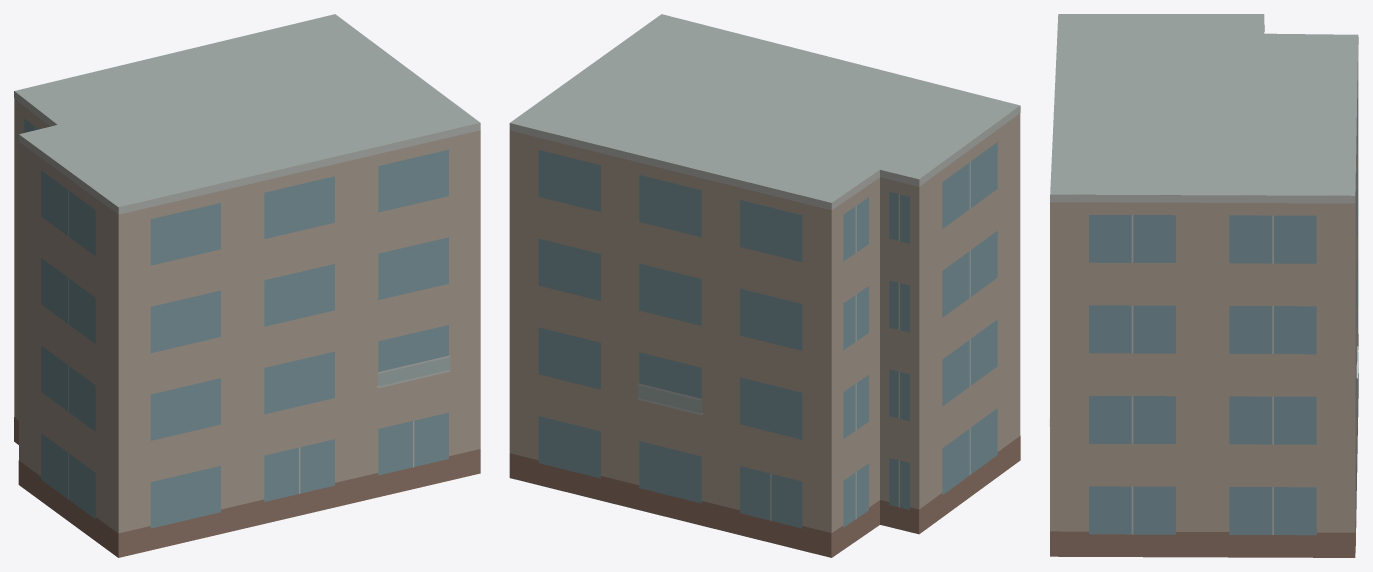
Rendered from survey-upis-32651889.glb.
3 renders of one model, left to right at view 1: azimuth 30°, elevation 25°; view 2: azimuth 150°, elevation 25°; view 3: azimuth 270°, elevation 25°, orthographic. The views are drawn at different scales.
Parts seen in each view (by area): view 1: survey-upis-32651889.tmp; view 2: survey-upis-32651889.tmp; view 3: survey-upis-32651889.tmp.
Part boxes in pixels (x1=…): survey-upis-32651889.tmp: x1=14, y1=14, x2=480, y2=557; survey-upis-32651889.tmp: x1=509, y1=14, x2=1020, y2=557; survey-upis-32651889.tmp: x1=1049, y1=14, x2=1358, y2=557.
Bounding box in the file's own units: 12.5 × 11.6 × 8.97.
